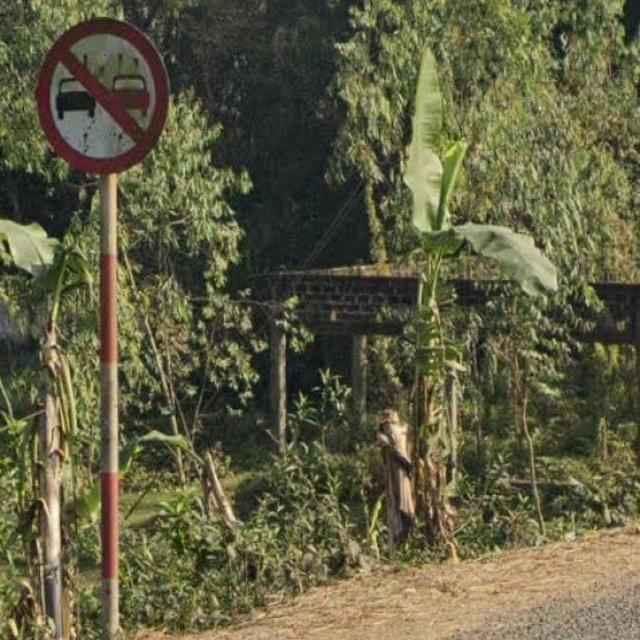Don-t-Overtracking: (19, 0, 180, 190)
